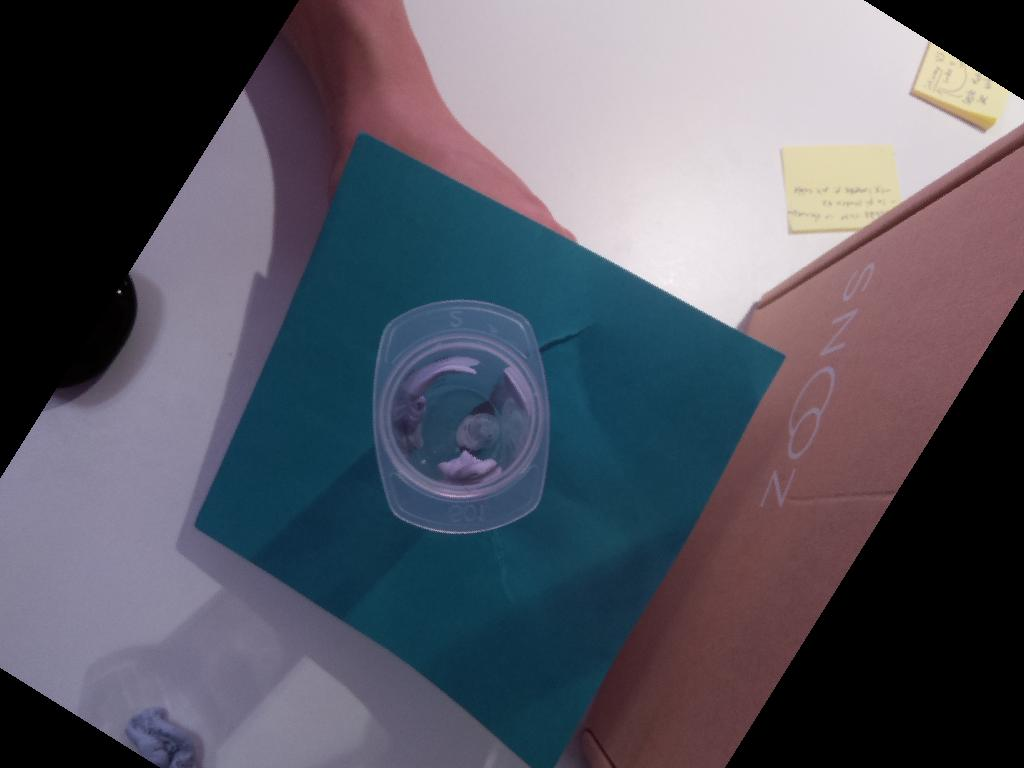dirty: (369, 299, 551, 536)
